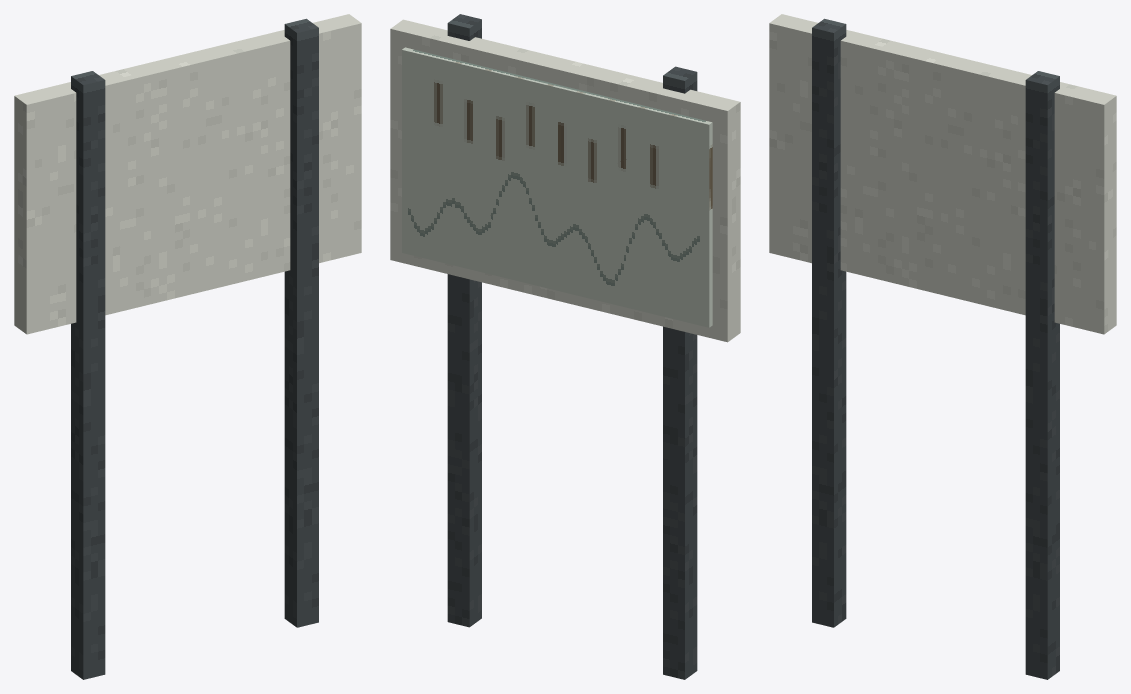
File: f_lixa_whiteboard.glb
3 views of the same model, side by side, from view 1: azimuth 30°, elevation 25°; view 2: azimuth 150°, elevation 25°; view 3: azimuth 330°, elevation 25° (orthographic).
Visible parts, largest first — view 1: block_framed-sign, block_signboard-post (×2); view 2: block_dense-equations-and-waveforms, block_signboard-post (×2), block_framed-sign; view 3: block_framed-sign, block_signboard-post (×2).
Part boxes in pixels (x1,y1,x2,y2): block_framed-sign: (14, 14, 361, 334); block_signboard-post (×2): (71, 18, 318, 679); block_dense-equations-and-waveforms: (402, 47, 712, 327); block_signboard-post (×2): (447, 14, 697, 679); block_framed-sign: (390, 19, 740, 342); block_framed-sign: (769, 14, 1116, 334); block_signboard-post (×2): (812, 18, 1059, 679).
Size of the model in its own units: 0.89 by 1.51 by 0.106.
1 material, 1 textured.
